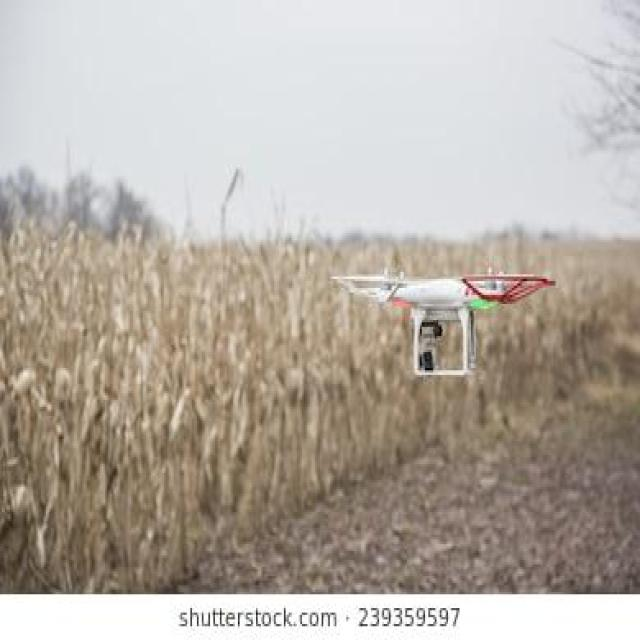drone: (0, 461, 640, 640)
